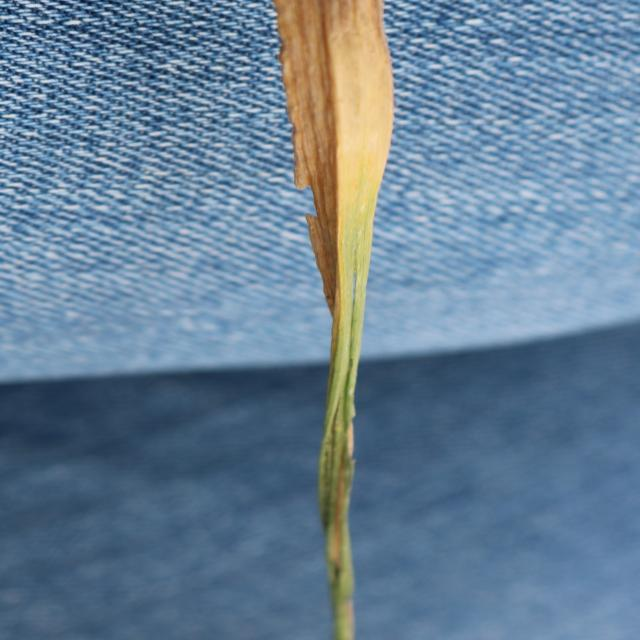Septoria: (275, 1, 385, 183), (304, 185, 338, 298)
